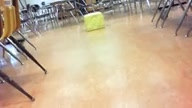cube: (83, 12, 104, 32)
